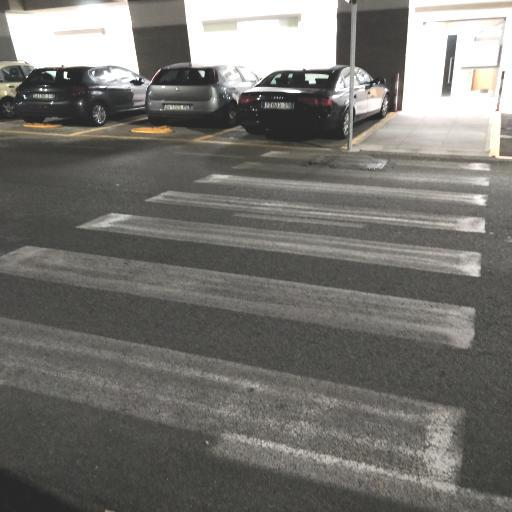crosswalk: (55, 186, 500, 282)
